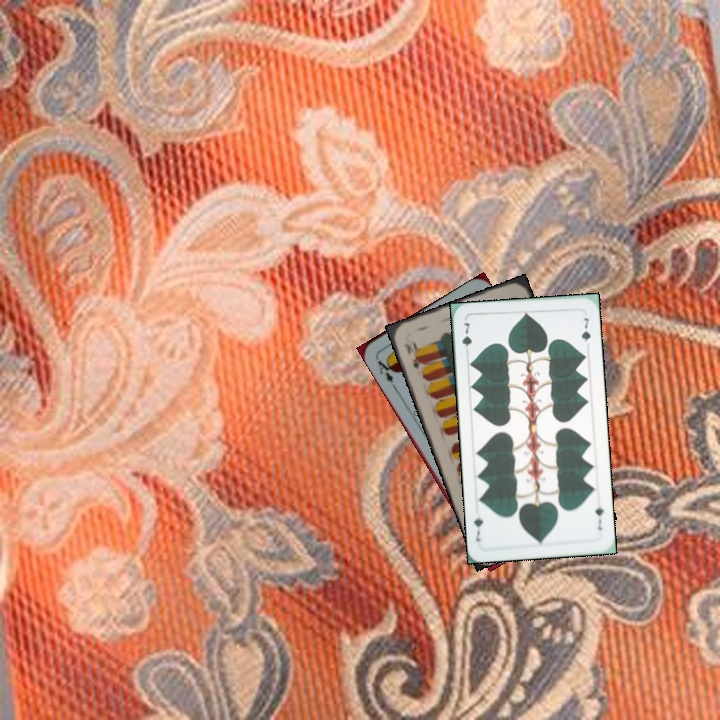E10: (400, 339, 424, 372)
EA: (371, 353, 398, 390)
G7: (458, 319, 475, 358), (591, 497, 606, 533)
